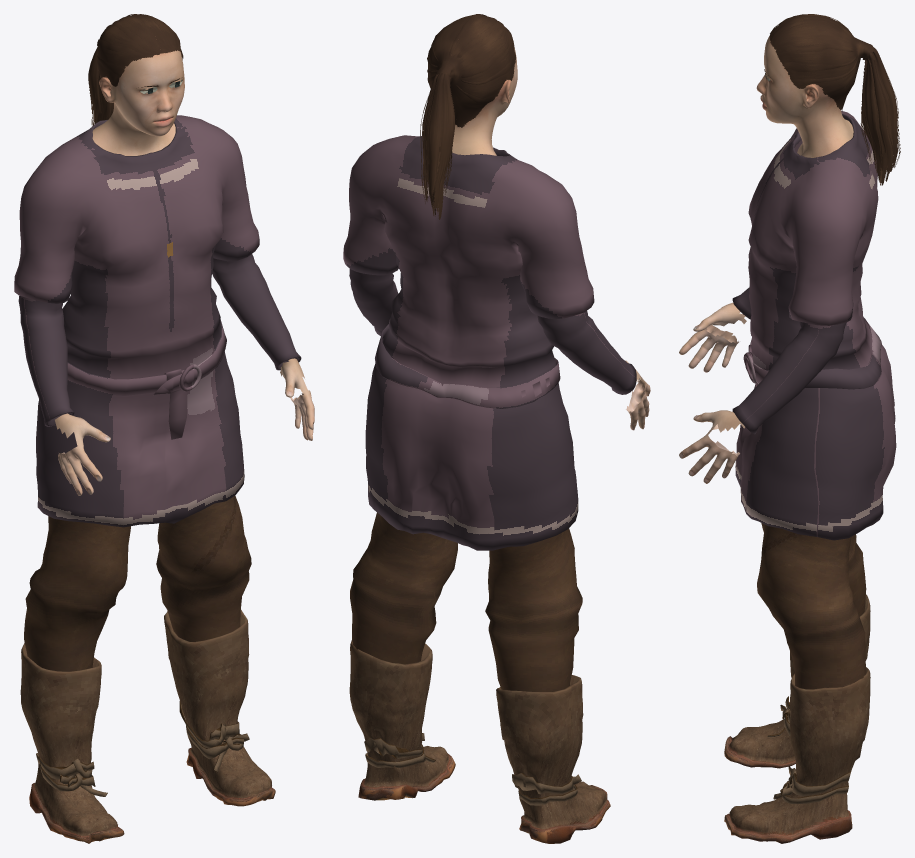
File: mara-field-tunic.glb
The picture shows the model from 3 angles, left to right: view 1: azimuth 30°, elevation 25°; view 2: azimuth 150°, elevation 25°; view 3: azimuth 270°, elevation 25°; orthographic projection. The views are drawn at different scales.
Visible parts, largest first — view 1: mara-field-tunic runtime mesh; view 2: mara-field-tunic runtime mesh; view 3: mara-field-tunic runtime mesh.
Part boxes in pixels (x1=…): mara-field-tunic runtime mesh: x1=14, y1=14, x2=314, y2=843; mara-field-tunic runtime mesh: x1=343, y1=14, x2=650, y2=843; mara-field-tunic runtime mesh: x1=679, y1=14, x2=900, y2=843.
Size of the model in its own units: 0.6326 by 1.85 by 0.4767.
Materials: 8 (7 with a texture image).
